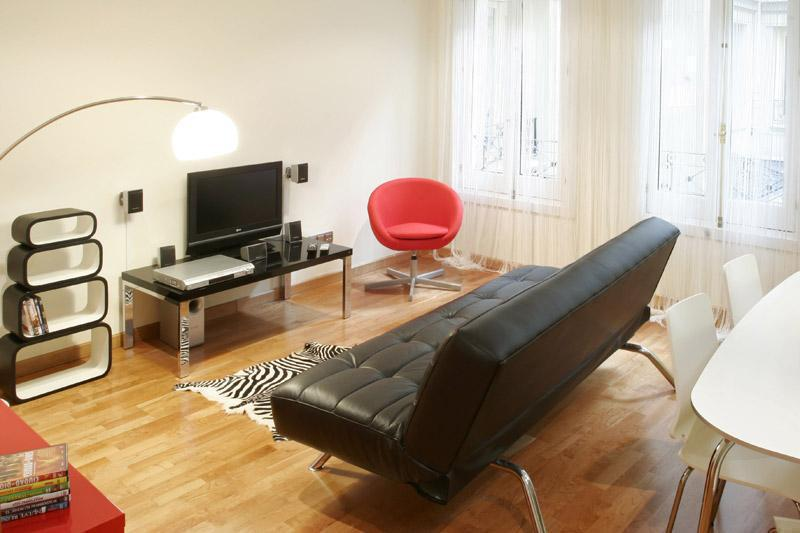Ventana: (643, 10, 798, 247), (454, 10, 577, 206)
